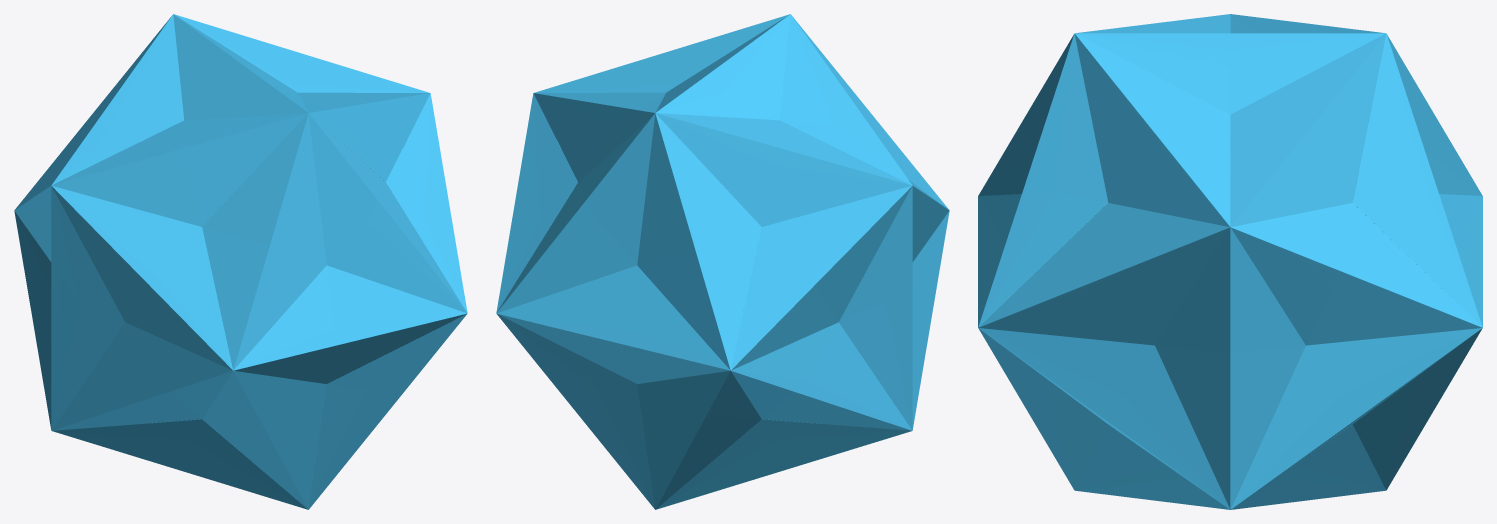
The model's file is SmallRhombidodecacron.obj.
3 views of the same model, side by side, from view 1: azimuth 30°, elevation 25°; view 2: azimuth 150°, elevation 25°; view 3: azimuth 270°, elevation 25° (orthographic). The views are drawn at different scales.
Bounding box in the file's own units: 5.24 × 5.24 × 5.24.
